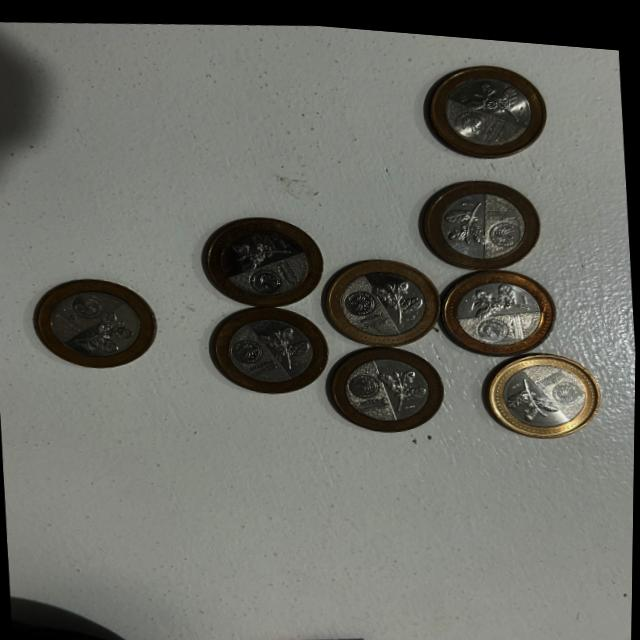20_New_Back: (459, 267, 532, 312), (74, 305, 136, 357), (507, 362, 559, 417), (229, 226, 289, 272), (259, 316, 313, 364), (374, 270, 421, 324), (443, 191, 492, 241), (468, 69, 522, 112), (380, 358, 427, 406)
